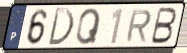1: (110, 8, 124, 45)
6: (26, 8, 50, 47)
B: (149, 6, 178, 45)
D: (46, 7, 75, 48)
Q: (75, 6, 102, 46)
R: (124, 9, 153, 43)
